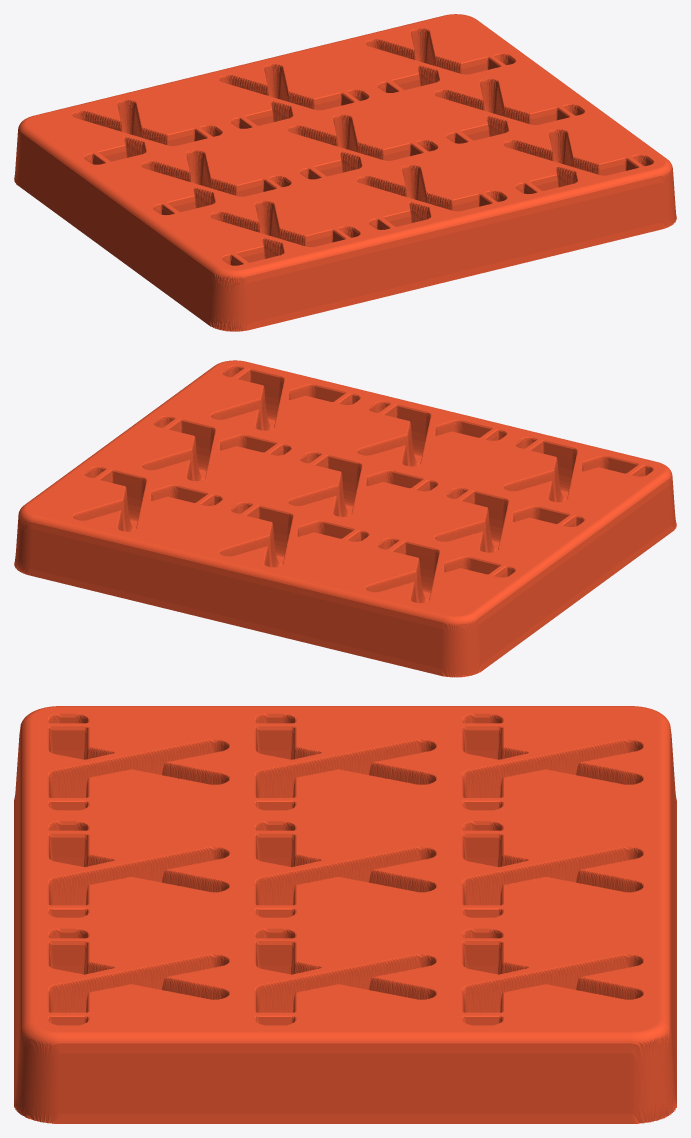
File: mold.glb
The picture shows the model from 3 angles, top to bottom: view 1: azimuth 30°, elevation 25°; view 2: azimuth 150°, elevation 25°; view 3: azimuth 270°, elevation 25°; orthographic projection. The views are drawn at different scales.
Visible parts, largest first — view 1: geometry_0; view 2: geometry_0; view 3: geometry_0.
Part boxes in pixels (x1,y1,x2,y2): geometry_0: (14, 14, 676, 331); geometry_0: (14, 360, 676, 677); geometry_0: (14, 706, 676, 1123).
Size of the model in its own units: 0.1595 by 0.0185 by 0.1315.
